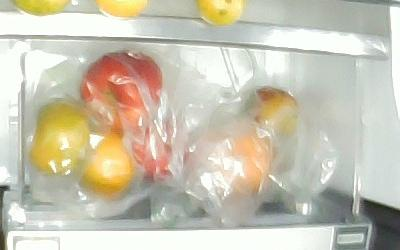apple_vinyl: (78, 49, 164, 130), (131, 124, 188, 183)
grapefruit_vinyl: (201, 127, 273, 195)
persimmon_vinyl: (29, 104, 90, 174), (77, 129, 133, 194)
prune_vinyl: (243, 84, 299, 136)
